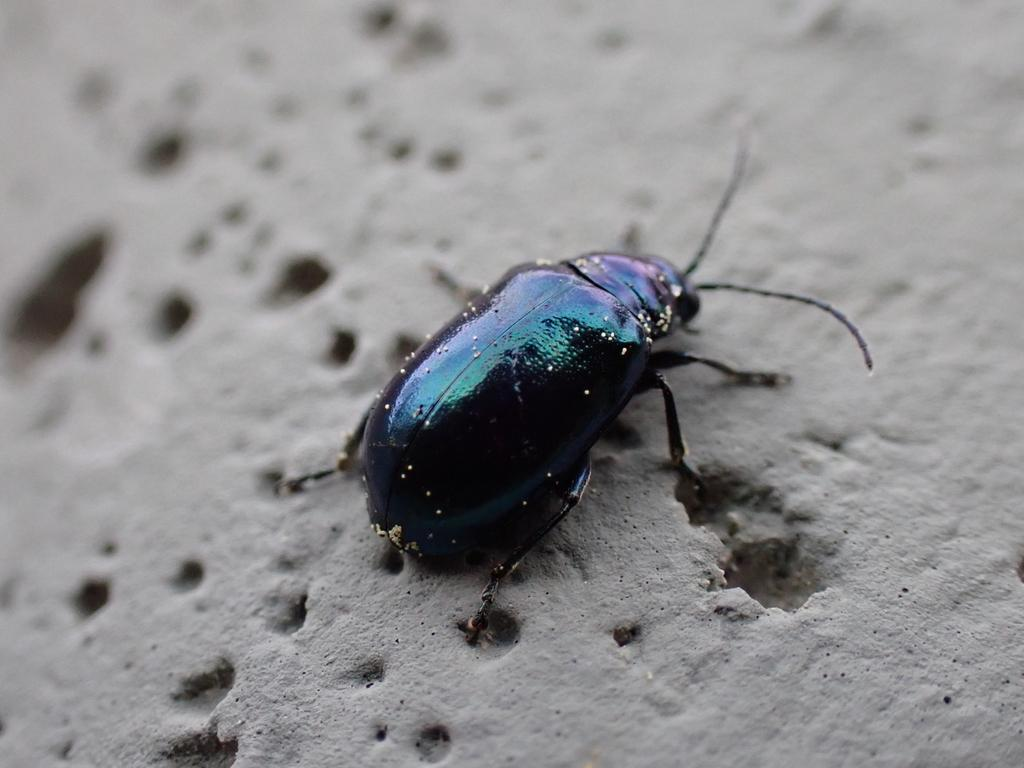flea_beetle: (214, 44, 961, 691)
